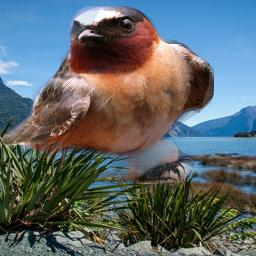Swallow: (2, 6, 214, 183)
